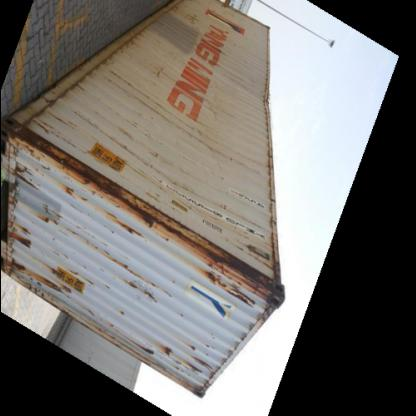Damage: (12, 132, 131, 203), (190, 244, 277, 308), (101, 208, 199, 241), (8, 260, 82, 292), (150, 344, 218, 376), (121, 269, 175, 307), (250, 66, 280, 119)
